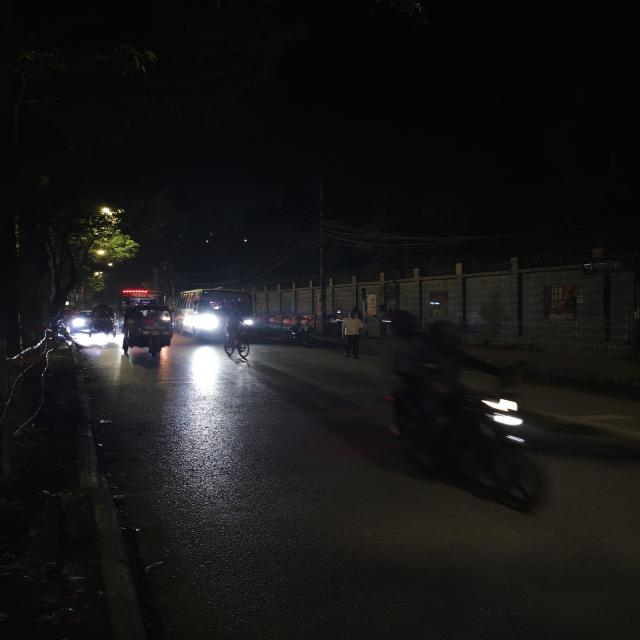bicycle: (224, 313, 252, 362)
bus: (182, 286, 255, 340), (114, 286, 176, 308)
car: (68, 306, 92, 334)
motorcycle: (280, 319, 318, 346)
pedestrian: (336, 306, 364, 362)
rickshaw: (119, 302, 179, 357), (84, 303, 118, 339)
